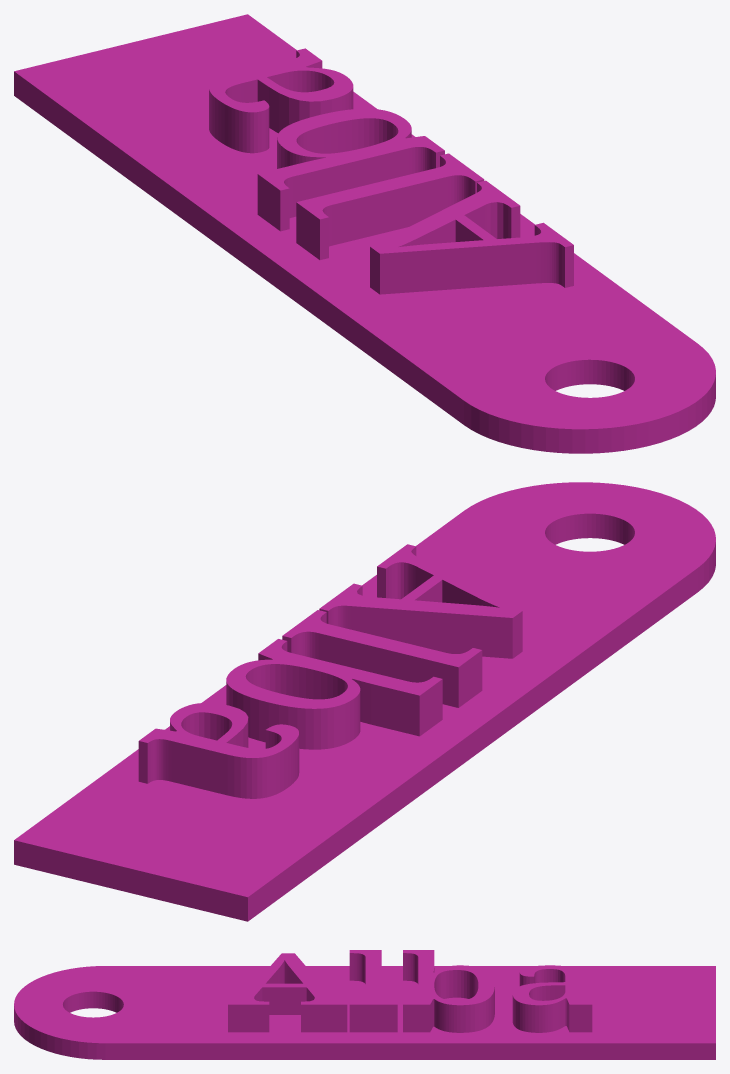
Rendered from asset.glb.
The picture shows the model from 3 angles, top to bottom: view 1: azimuth 30°, elevation 25°; view 2: azimuth 150°, elevation 25°; view 3: azimuth 270°, elevation 25°; orthographic projection. The views are drawn at different scales.
Parts seen in each view (by area): view 1: Mesh_Mesh_head_geo.001_lambert2SG.001; view 2: Mesh_Mesh_head_geo.001_lambert2SG.001; view 3: Mesh_Mesh_head_geo.001_lambert2SG.001.
Boxes of the visible parts, <box> form: Mesh_Mesh_head_geo.001_lambert2SG.001: <box>14,14,715,453</box>; Mesh_Mesh_head_geo.001_lambert2SG.001: <box>14,482,715,921</box>; Mesh_Mesh_head_geo.001_lambert2SG.001: <box>14,950,715,1059</box>.
Size of the model in its own units: 30 by 8 by 115.
